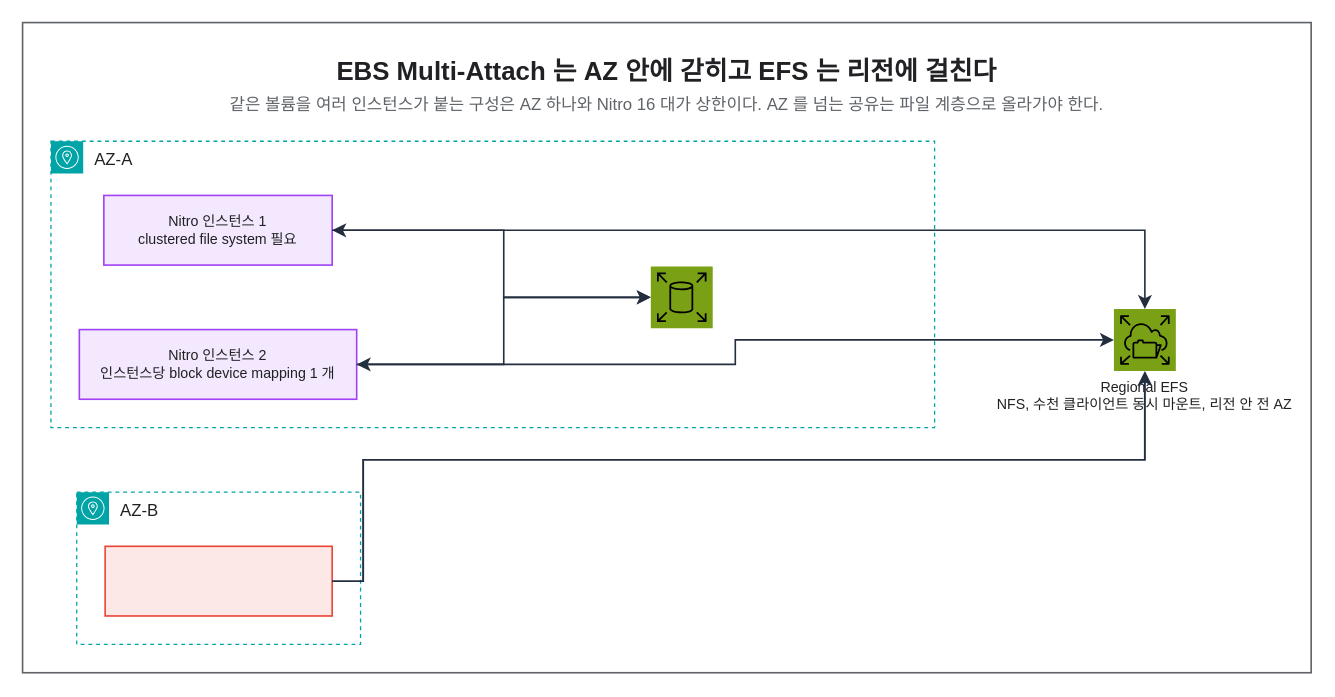
Some shapes in this 1335 by 697 pixel diagram are drawn without their labels. The shapes that lost their labels are listed below. From the top down, each one's box as (x1, y1, x2, y2) in pixels, then its label:
(650, 266, 712, 328): io2 볼륨 Multi-Attach io1 과 io2 전용, 최대 16 대, 부팅 볼륨 불가, I/O fencing 은 io2 만
(104, 545, 332, 616): 다른 AZ 의 인스턴스 같은 io2 볼륨에 붙을 수 없다
